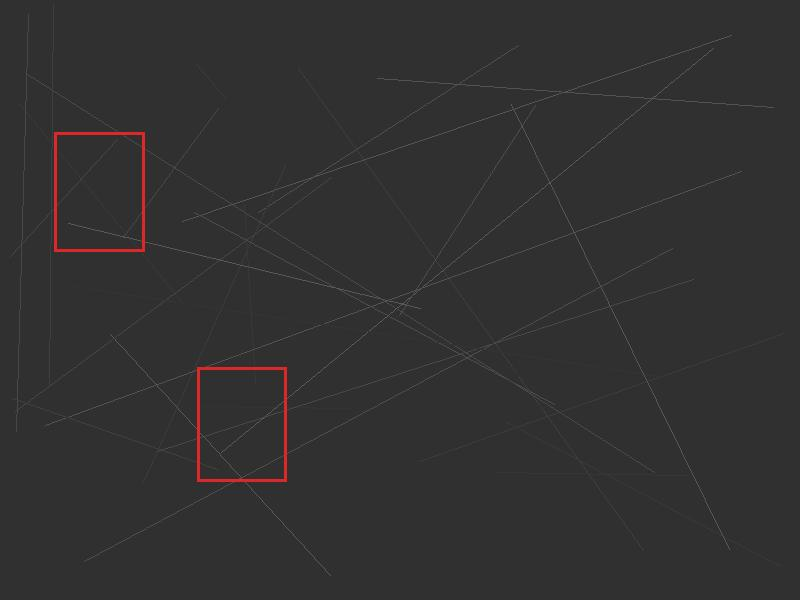D10: (54, 132, 144, 251)
D40: (197, 367, 286, 481)
